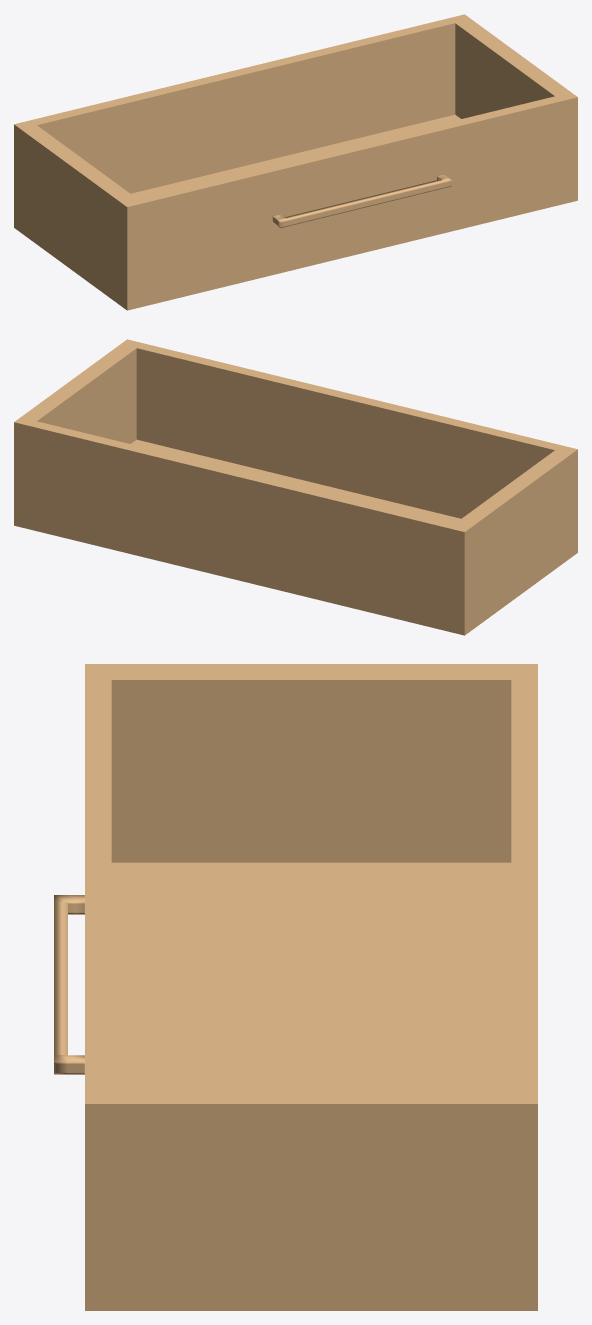
Rendered from Estante_cajón.fbx.
The picture shows the model from 3 angles, top to bottom: view 1: azimuth 30°, elevation 25°; view 2: azimuth 150°, elevation 25°; view 3: azimuth 270°, elevation 25°; orthographic projection. The views are drawn at different scales.
Visible parts, largest first — view 1: Cube.039; view 2: Cube.039; view 3: Cube.039.
Boxes of the visible parts, left/top/right/bottom form: Cube.039: left=14, top=14, right=577, bottom=310; Cube.039: left=14, top=339, right=577, bottom=635; Cube.039: left=54, top=664, right=537, bottom=1310.
Size of the model in its own units: 18.53 by 4.06 by 8.61.
